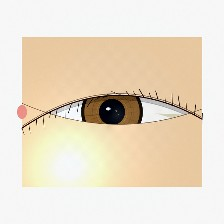pterygium_lesion: (151, 91, 202, 133)
